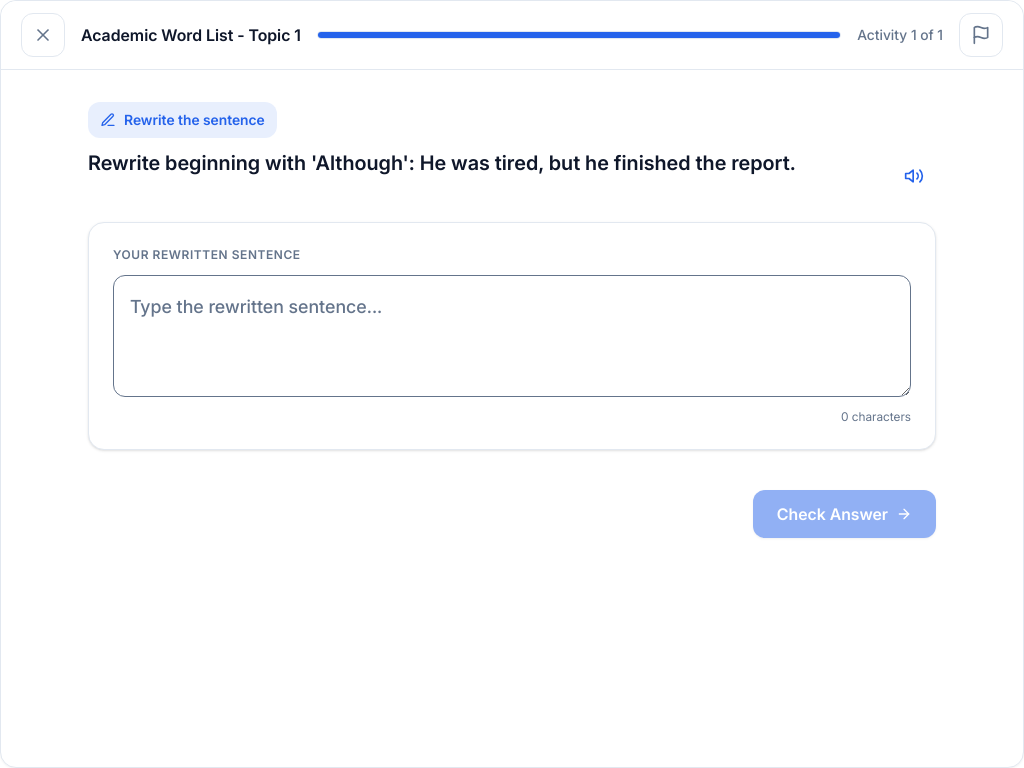
Test case: LessonPage Runner (P10.3) › renders and submits grammar_sentence_transform activity without expected_answer
The width and height of the screenshot is (1024, 768).
Check: the heading "Rewrite beginning with 'Although': He was tired, but he finished the report." is shown, box x1=88 y1=150 x2=796 y2=178
Note: Type the rewritten sentence
In the text box labelled "Your rewritten sentence": (512, 336) x1=113 y1=275 x2=911 y2=397, type "Although he was tired, he finished the report."
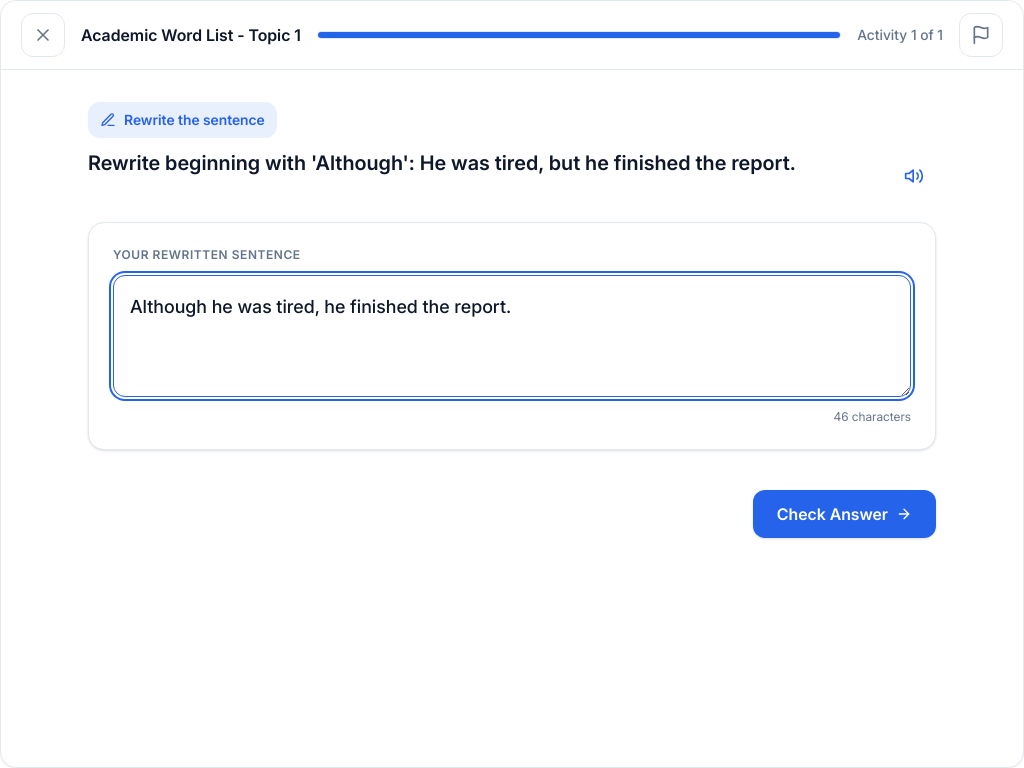
Note: Submit the answer
Click the button "Check Answer": (844, 514) x1=753 y1=490 x2=936 y2=538
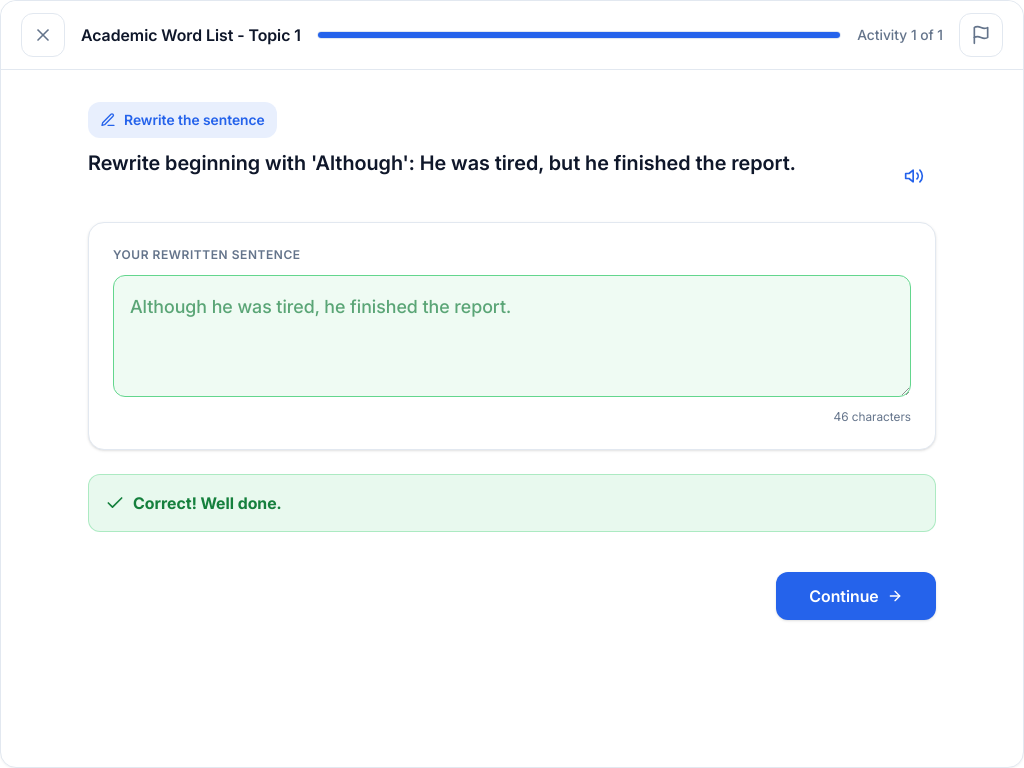
Check: the button "Continue" is shown, box x1=776 y1=572 x2=936 y2=620
